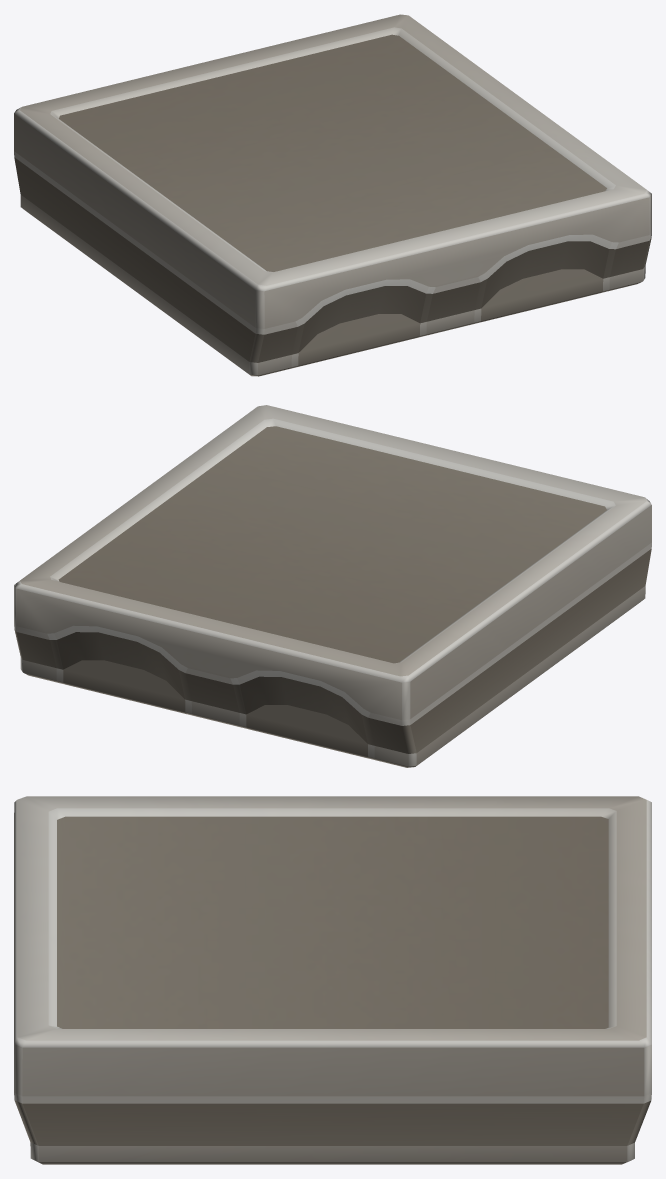
Rendered from appartment_type1_roof_type1_x4_flat.fbx.
The picture shows the model from 3 angles, top to bottom: view 1: azimuth 30°, elevation 25°; view 2: azimuth 150°, elevation 25°; view 3: azimuth 270°, elevation 25°; orthographic projection. The views are drawn at different scales.
Visible parts, largest first — view 1: appartment_type1_roof_type1_x4_flat; view 2: appartment_type1_roof_type1_x4_flat; view 3: appartment_type1_roof_type1_x4_flat.
Boxes of the visible parts, x1=… form: appartment_type1_roof_type1_x4_flat: x1=14, y1=14, x2=651, y2=376; appartment_type1_roof_type1_x4_flat: x1=14, y1=405, x2=651, y2=767; appartment_type1_roof_type1_x4_flat: x1=14, y1=796, x2=651, y2=1164.
Size of the model in its own units: 800 by 186 by 867.
